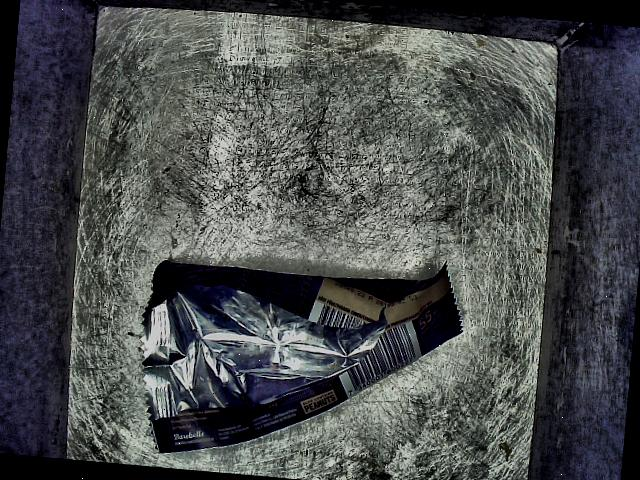Plastic: (122, 209, 483, 480)
